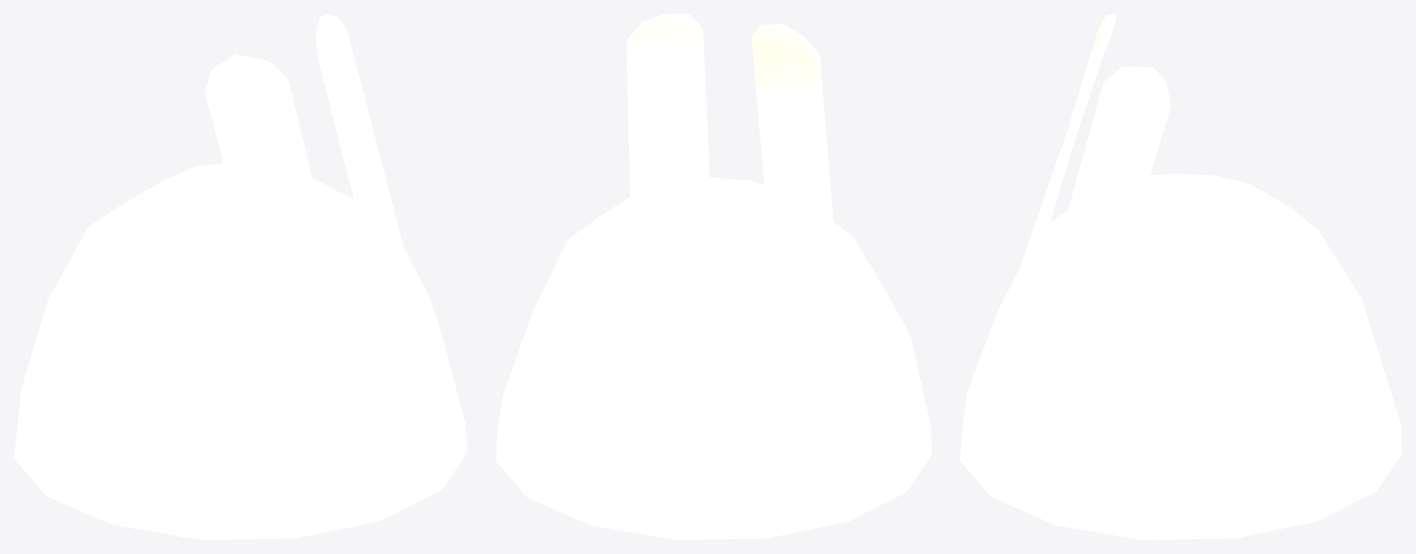
File: tuzideng.FBX
3 renders of one model, left to right at view 1: azimuth 30°, elevation 25°; view 2: azimuth 150°, elevation 25°; view 3: azimuth 270°, elevation 25°, orthographic. The views are drawn at different scales.
Visible parts, largest first — view 1: lamp; view 2: lamp; view 3: lamp.
Part boxes in pixels (x1,y1,x2,y2): lamp: (14, 14, 467, 539); lamp: (496, 14, 931, 539); lamp: (960, 14, 1401, 539).
Bounding box in the file's own units: 9.06 × 9.36 × 9.08.
Materials: 1 (1 with a texture image).
